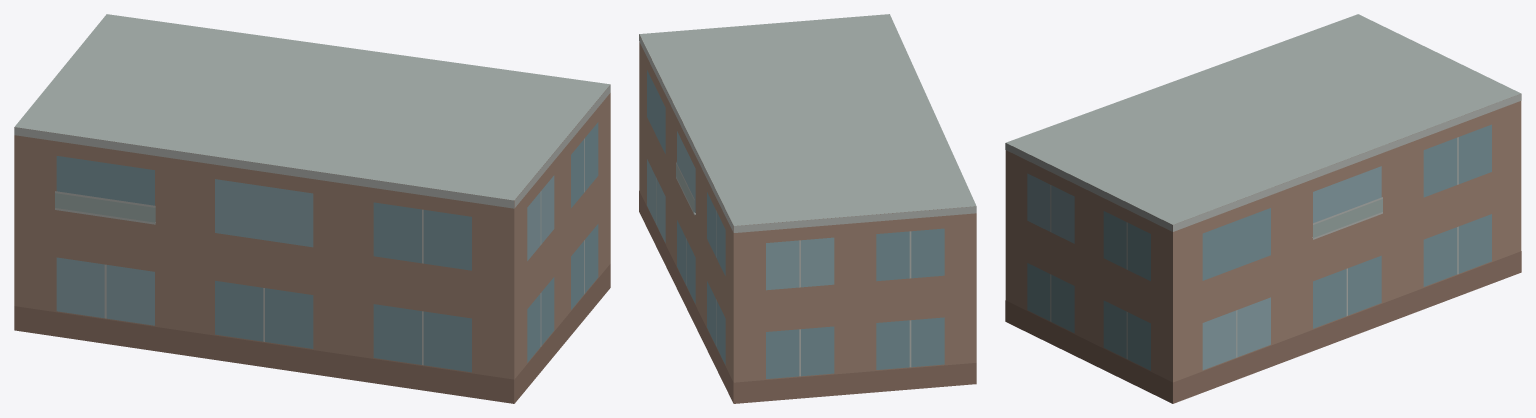
The model's file is survey-upis-32928376.glb.
3 views of the same model, side by side, from view 1: azimuth 30°, elevation 25°; view 2: azimuth 150°, elevation 25°; view 3: azimuth 270°, elevation 25° (orthographic). The views are drawn at different scales.
Parts seen in each view (by area): view 1: survey-upis-32928376.tmp; view 2: survey-upis-32928376.tmp; view 3: survey-upis-32928376.tmp.
Part boxes in pixels (left/top/right/bottom): survey-upis-32928376.tmp: left=14, top=14, right=610, bottom=403; survey-upis-32928376.tmp: left=639, top=14, right=976, bottom=403; survey-upis-32928376.tmp: left=1005, top=14, right=1521, bottom=403.
Size of the model in its own units: 15.42 by 6.1 by 15.94.
